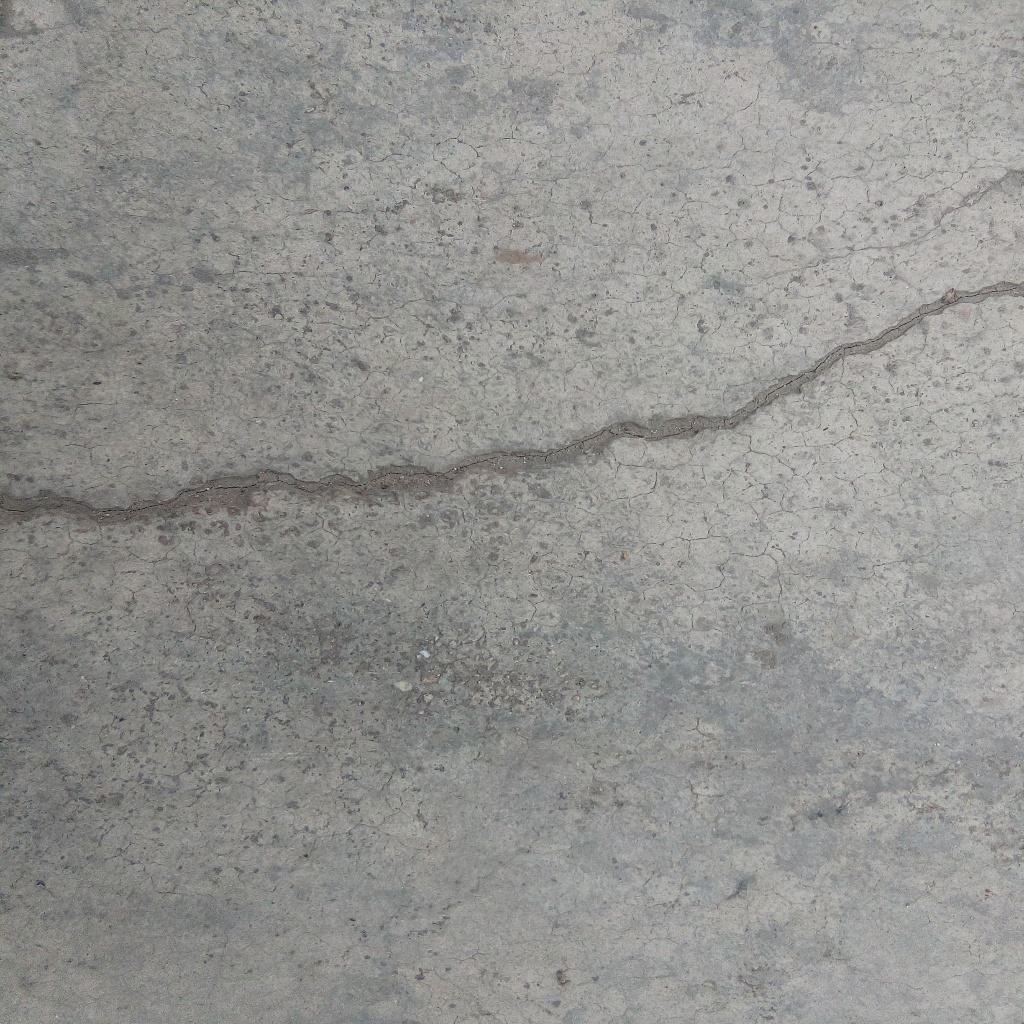Crack: (1, 278, 1024, 525)
